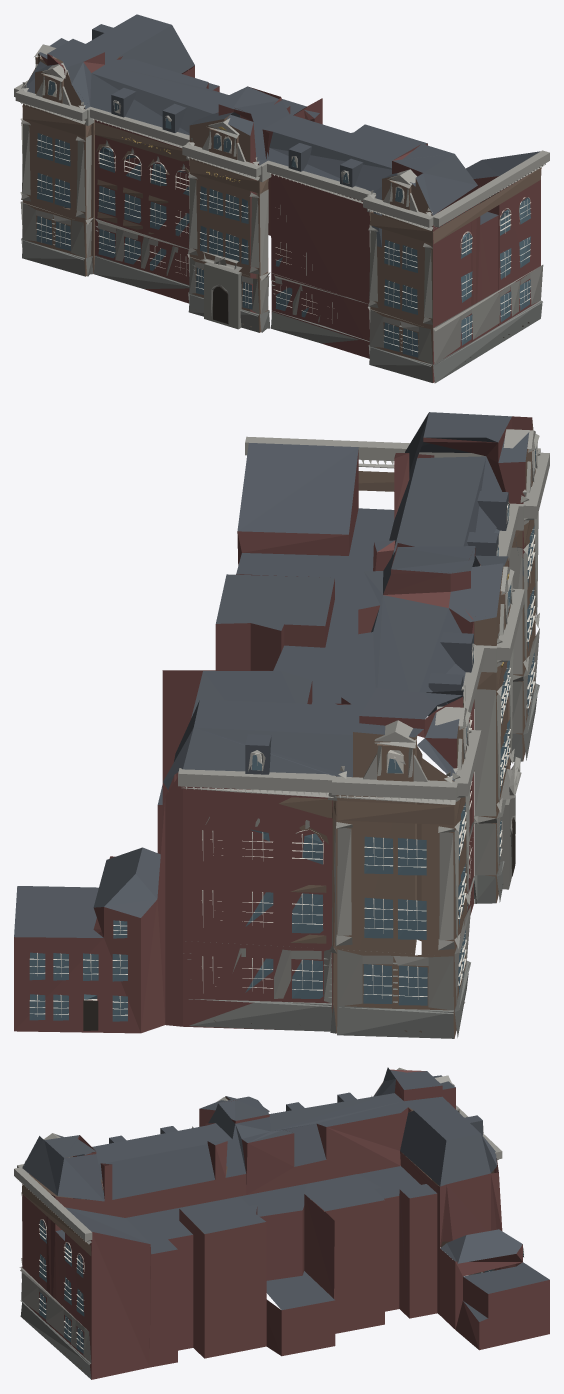
The model's file is school-raamplein-1.lod1.glb.
3 renders of one model, top to bottom at view 1: azimuth 30°, elevation 25°; view 2: azimuth 150°, elevation 25°; view 3: azimuth 270°, elevation 25°, orthographic. The views are drawn at different scales.
Parts seen in each view (by area): view 1: school-raamplein-1; view 2: school-raamplein-1; view 3: school-raamplein-1.
Part boxes in pixels (x1,y1,x2,y2): school-raamplein-1: (14, 14, 549, 383); school-raamplein-1: (14, 412, 549, 1038); school-raamplein-1: (14, 1067, 549, 1379).
Bounding box in the file's own units: 40.73 × 23.65 × 62.93.
